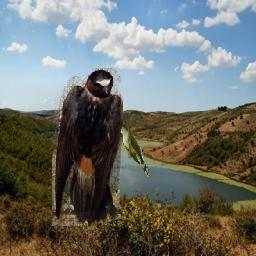Cuckoo: (117, 123, 149, 178)
Swallow: (53, 68, 124, 226)
